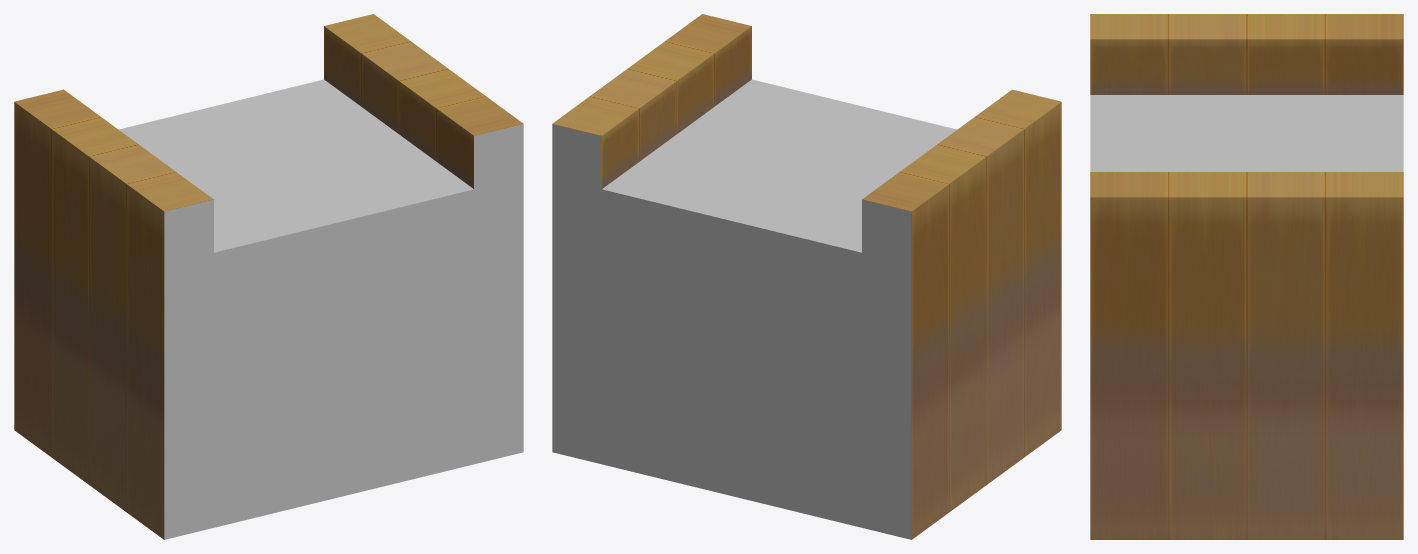
Rendered from Bridge01_a01_col.FBX.
3 renders of one model, left to right at view 1: azimuth 30°, elevation 25°; view 2: azimuth 150°, elevation 25°; view 3: azimuth 270°, elevation 25°, orthographic. The views are drawn at different scales.
Parts seen in each view (by area): view 1: Bridge01_a01_col; view 2: Bridge01_a01_col; view 3: Bridge01_a01_col.
Part boxes in pixels (box(x1,y1,x2,y2)): Bridge01_a01_col: box(14, 14, 523, 539); Bridge01_a01_col: box(552, 14, 1061, 539); Bridge01_a01_col: box(1090, 14, 1403, 539).
Size of the model in its own units: 985 by 860 by 712.
